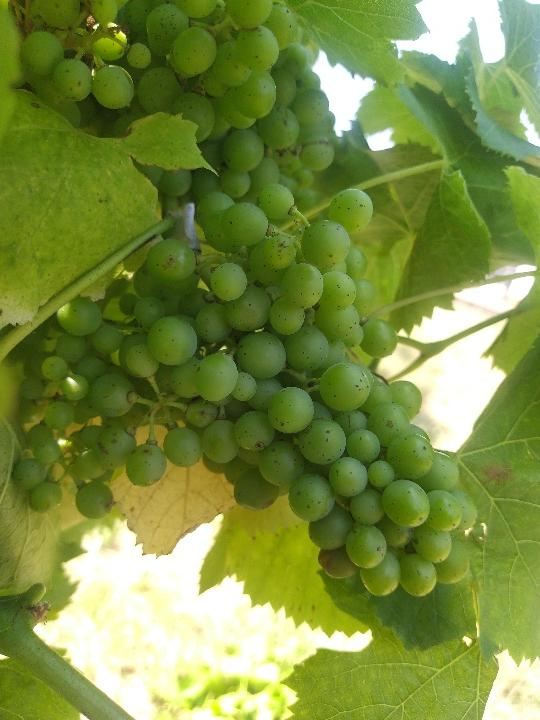grape: (11, 182, 483, 600)
